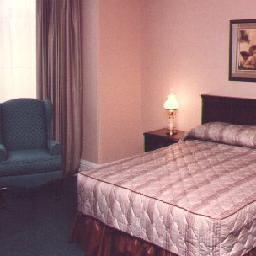Cama: (71, 99, 255, 249)
